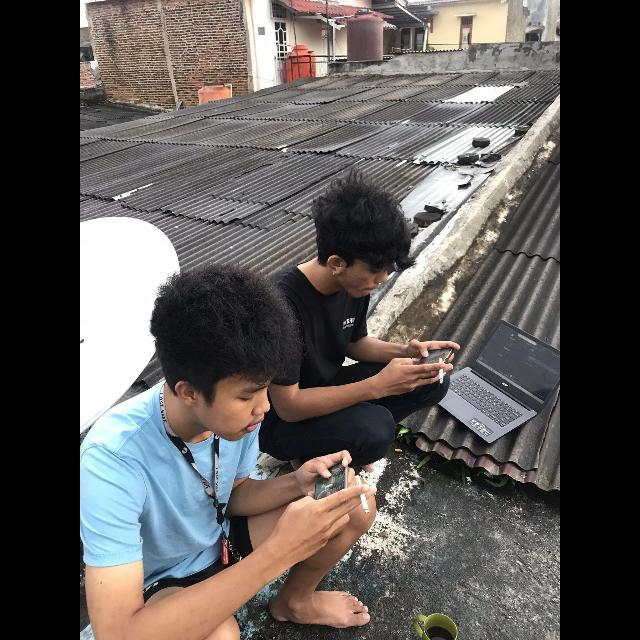rokok: (352, 470, 374, 518), (436, 356, 452, 386)
